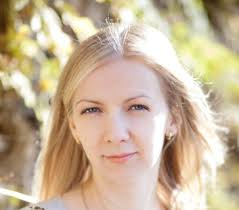white_female: (70, 64, 171, 179)
